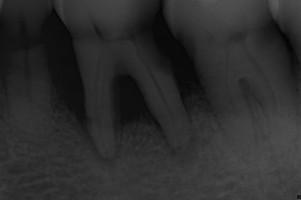Dental Caries: (48, 73, 163, 165)
Endo-Periodontal Lesion: (239, 77, 264, 116)
Furcation Involvement: (162, 135, 200, 170)
